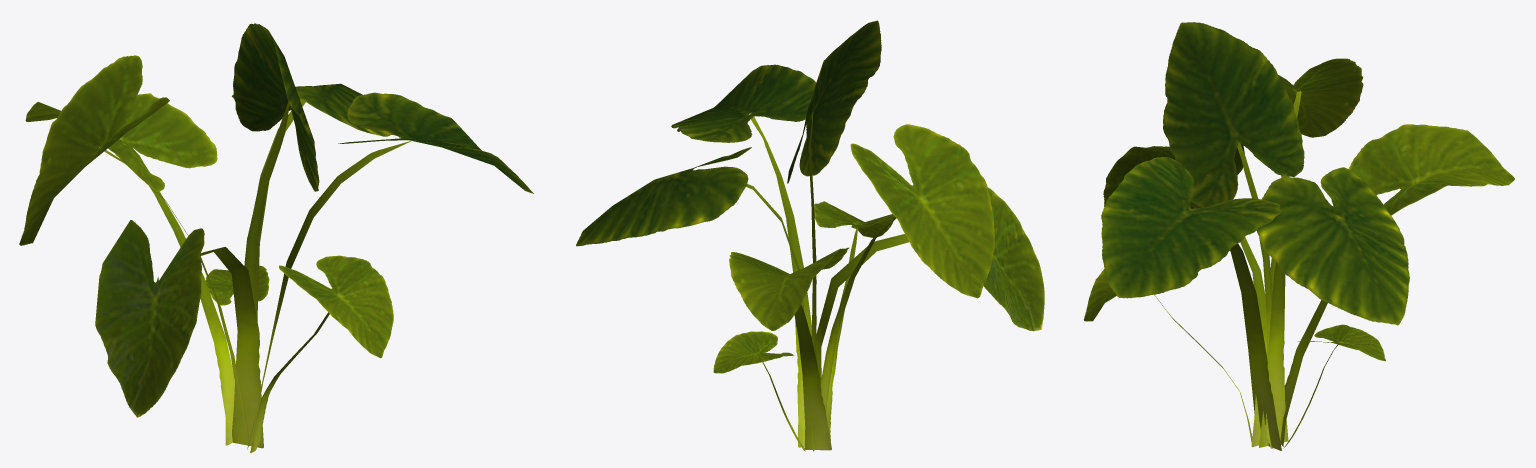
The model's file is Q_Plant_Taro_3.fbx.
3 views of the same model, side by side, from view 1: azimuth 30°, elevation 25°; view 2: azimuth 150°, elevation 25°; view 3: azimuth 270°, elevation 25° (orthographic). The views are drawn at different scales.
Parts seen in each view (by area): view 1: _7e39_Var3_LOD3; view 2: _7e39_Var3_LOD3; view 3: _7e39_Var3_LOD3.
Boxes of the visible parts, x1=… form: _7e39_Var3_LOD3: x1=19, y1=23, x2=533, y2=452; _7e39_Var3_LOD3: x1=576, y1=20, x2=1044, y2=451; _7e39_Var3_LOD3: x1=1084, y1=22, x2=1514, y2=450.
Bounding box in the file's own units: 51 × 53.03 × 50.07.
1 material, 1 textured.
